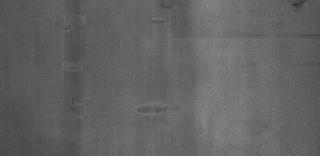rolled pit: (60, 8, 90, 34), (140, 12, 170, 28), (66, 99, 90, 119), (60, 60, 86, 72)
